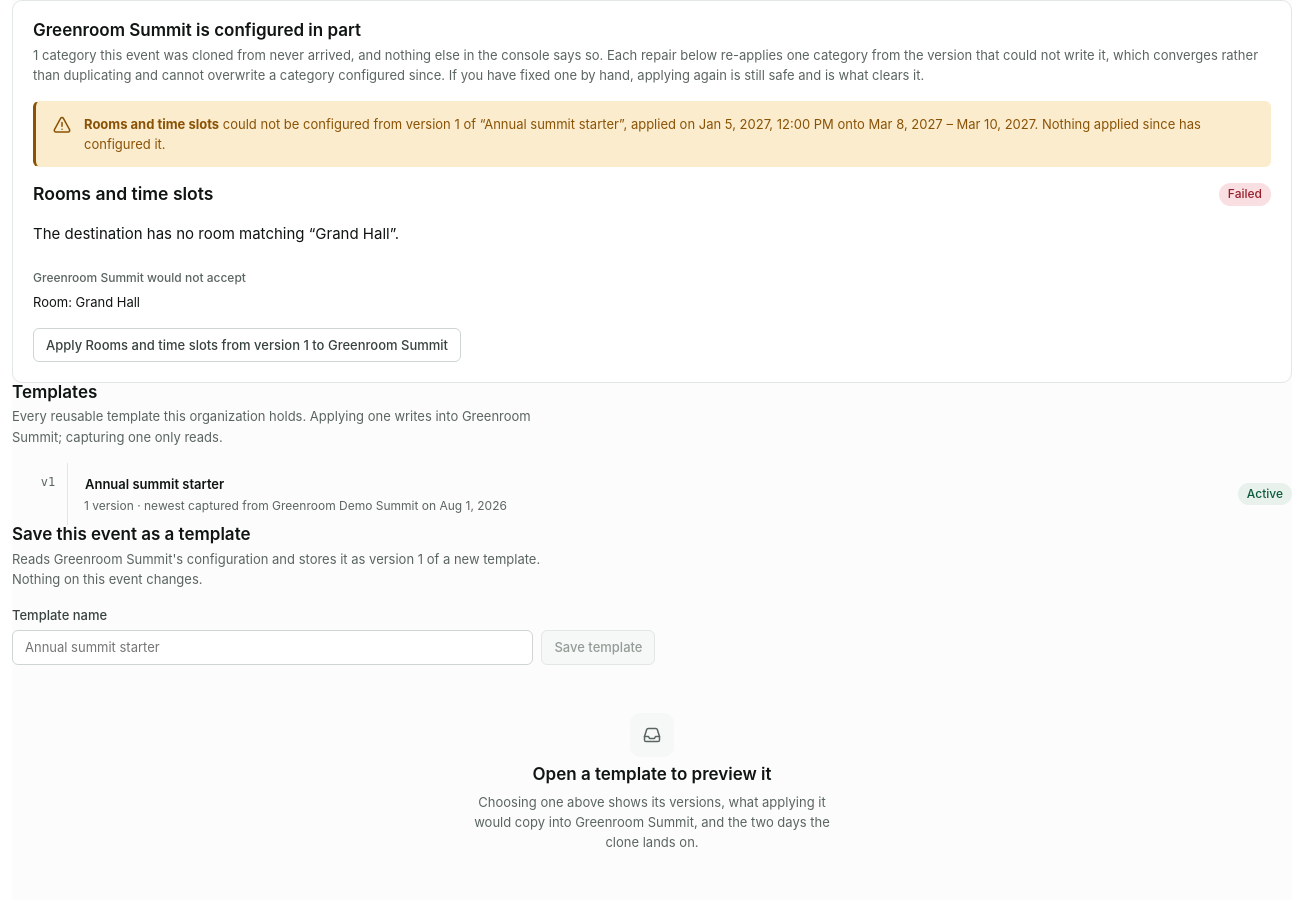
Scenario: event templates › configuration this event was cloned into and never received › clears once the repair lands, because the surface re-reads what is stored
Click the button "Apply Rooms and time slots from version 1 to Greenroom Summit": (247, 345) [33,328,461,362]
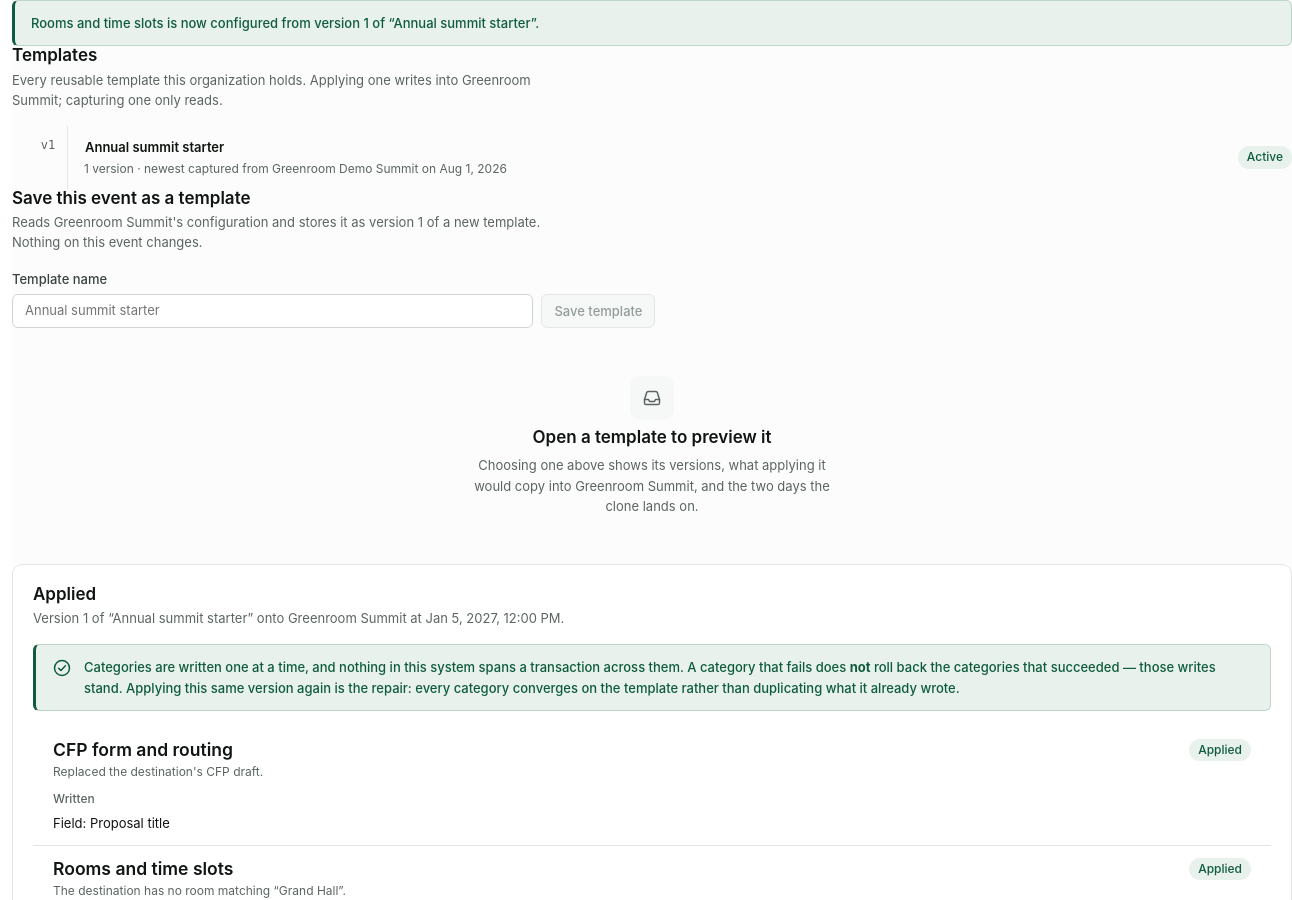
Check: the heading "Greenroom Summit is configured in part" is gone
Check: the text "is now configured from version 1" is shown, box [31,15,539,31]
